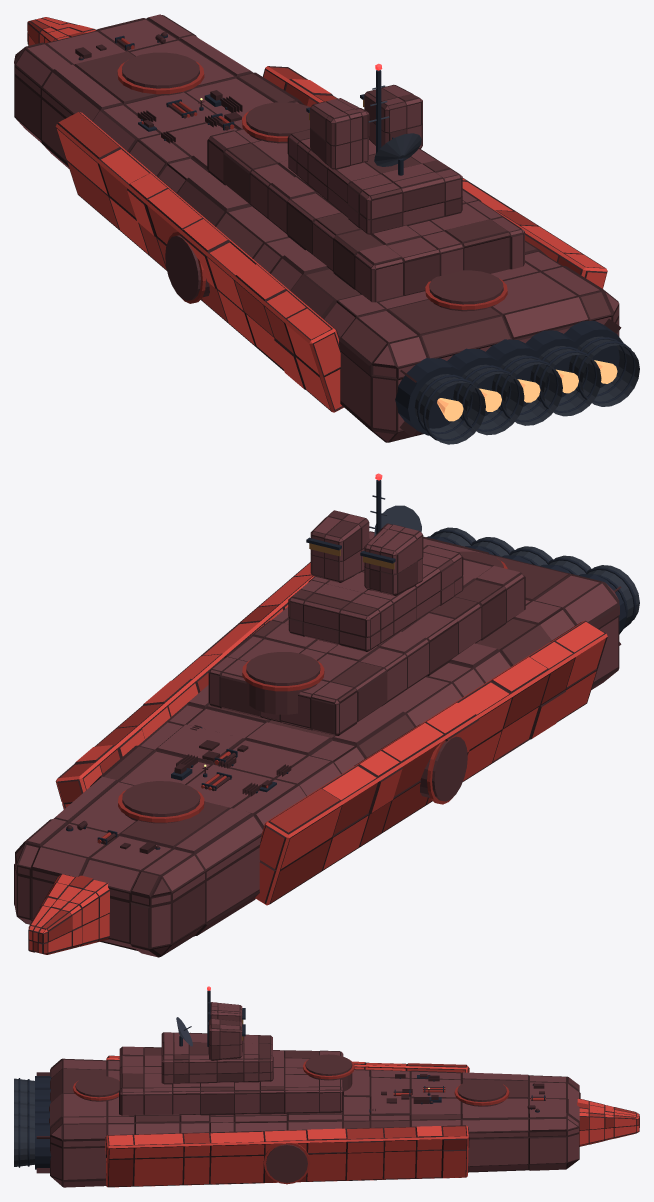
The model's file is behemoth.glb.
3 renders of one model, top to bottom at view 1: azimuth 30°, elevation 25°; view 2: azimuth 150°, elevation 25°; view 3: azimuth 270°, elevation 25°, orthographic. The views are drawn at different scales.
Parts seen in each view (by area): view 1: behemoth_mesh, radar_mesh; view 2: behemoth_mesh, radar_mesh; view 3: behemoth_mesh.
Boxes of the visible parts, x1,y1,x2,y2 form: behemoth_mesh: (14, 14, 639, 444); radar_mesh: (374, 133, 421, 175); behemoth_mesh: (14, 480, 639, 957); radar_mesh: (374, 505, 421, 535); behemoth_mesh: (14, 990, 639, 1187).
Bounding box in the file's own units: 15.51 × 13.79 × 44.92.
